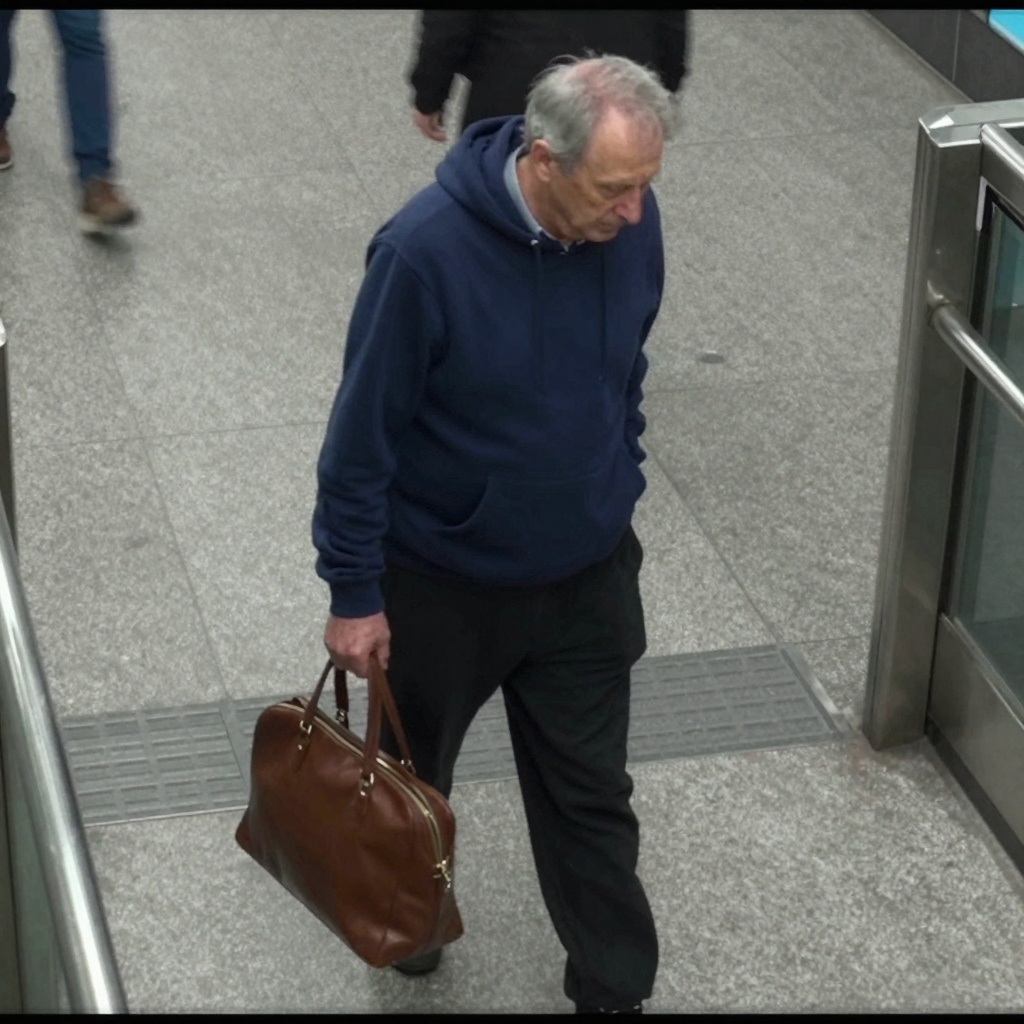Normal activity: (309, 51, 672, 1000), (406, 7, 692, 147), (0, 9, 139, 236)
